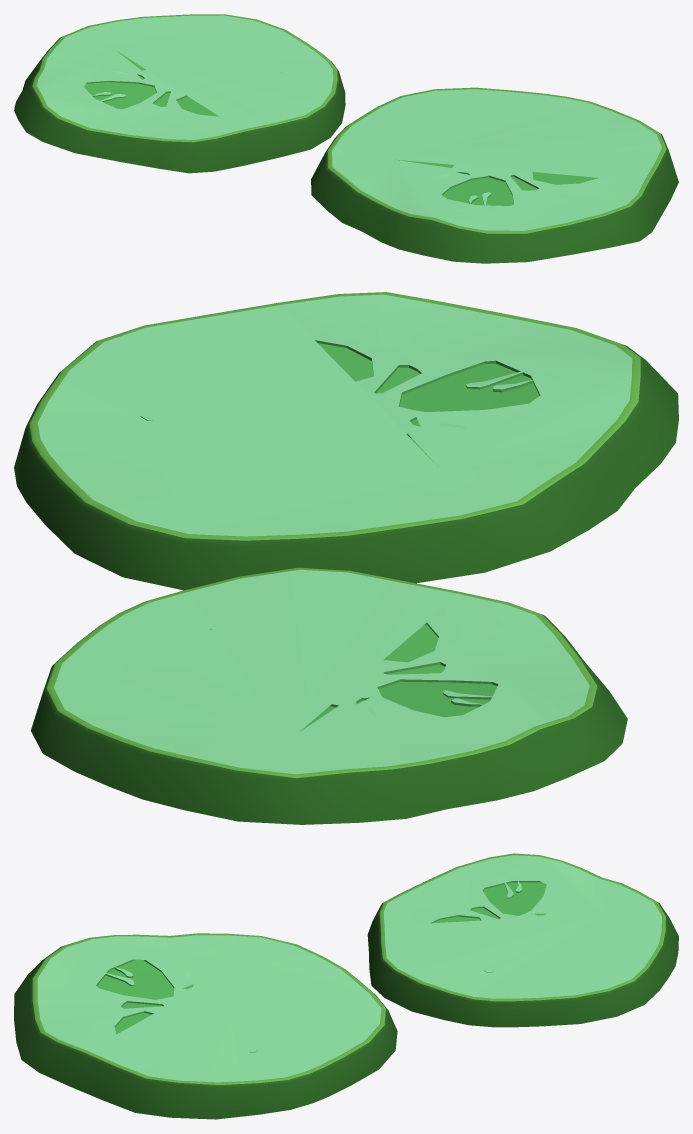
The model's file is cucumber.fbx.
The picture shows the model from 3 angles, top to bottom: view 1: azimuth 30°, elevation 25°; view 2: azimuth 150°, elevation 25°; view 3: azimuth 270°, elevation 25°; orthographic projection. The views are drawn at different scales.
Visible parts, largest first — view 1: cucumber; view 2: cucumber; view 3: cucumber.
Part boxes in pixels (box(x1,y1,x2,y2)): cucumber: box(14, 14, 678, 263); cucumber: box(14, 292, 678, 824); cucumber: box(14, 853, 678, 1119).
Bounding box in the file's own units: 40.38 × 3.84 × 49.42.
